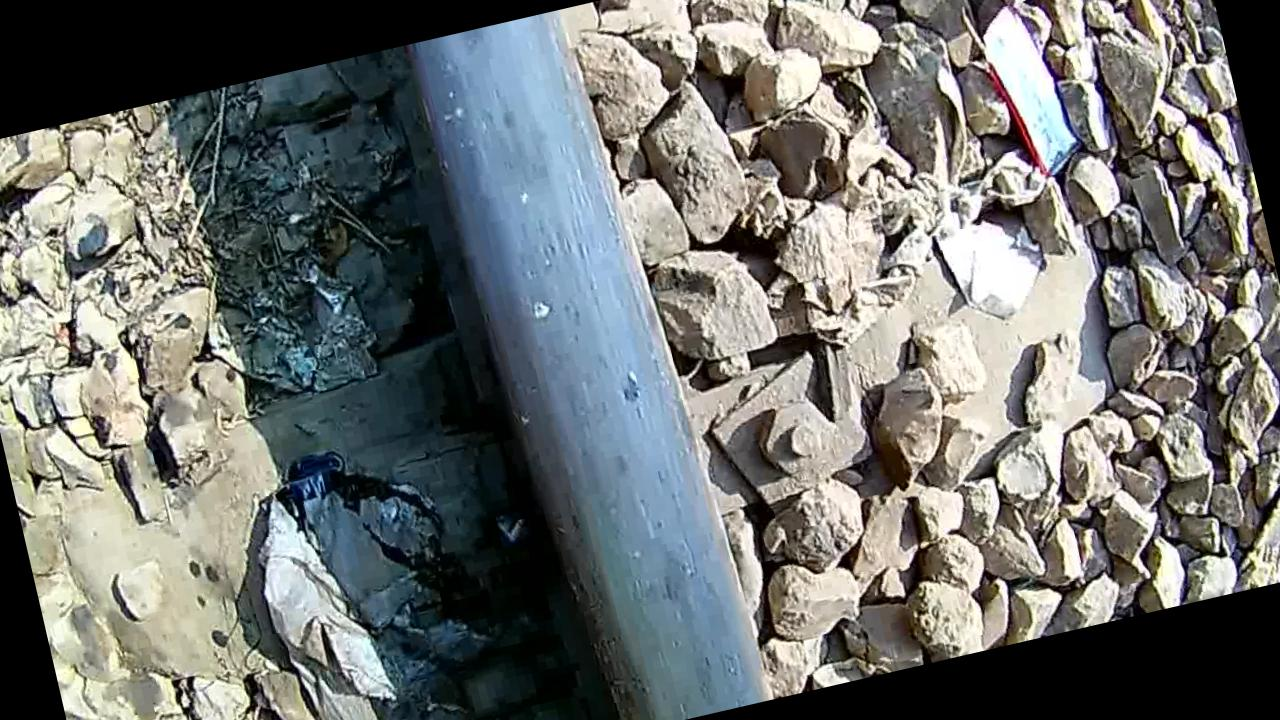bolt_missing: (429, 9, 737, 720)
